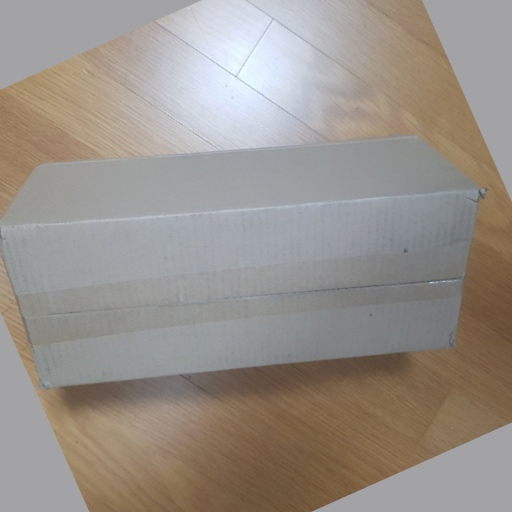Paper_0: (1, 131, 485, 388)
